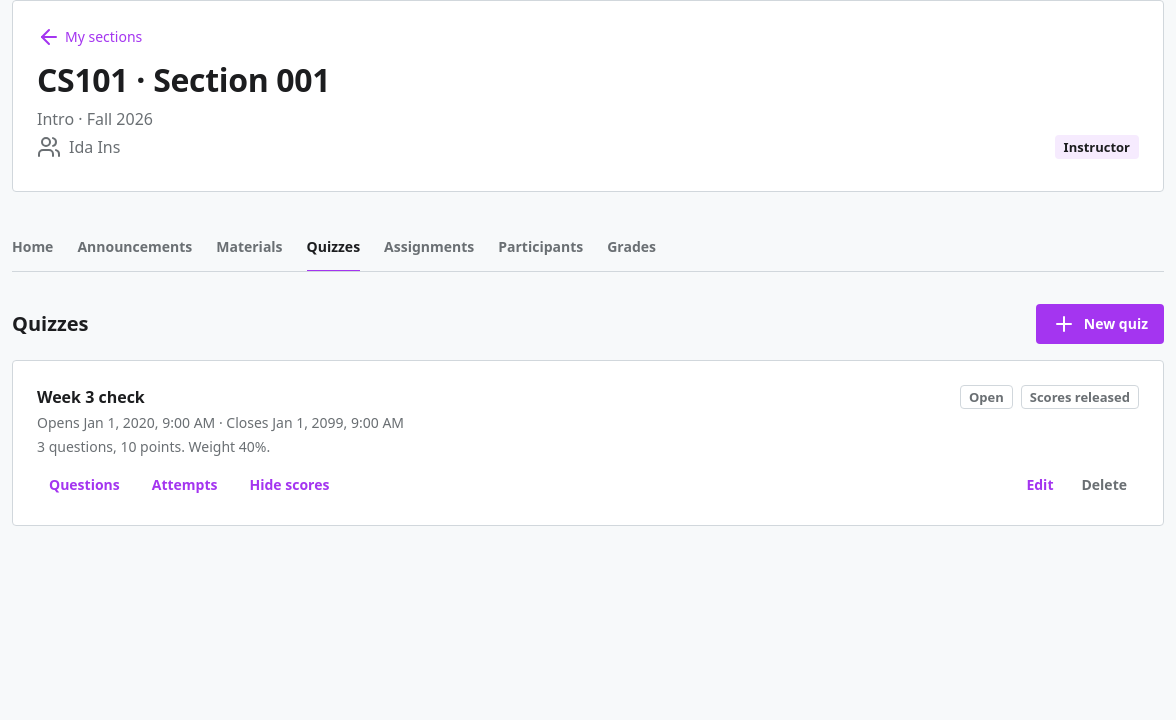
Scenario: Hide scores PATCHes immediately
Step 1. Click the button with aria-label "Hide scores for Week 3 check" → (289, 485), box top-left (238, 469), bottom-right (341, 501)
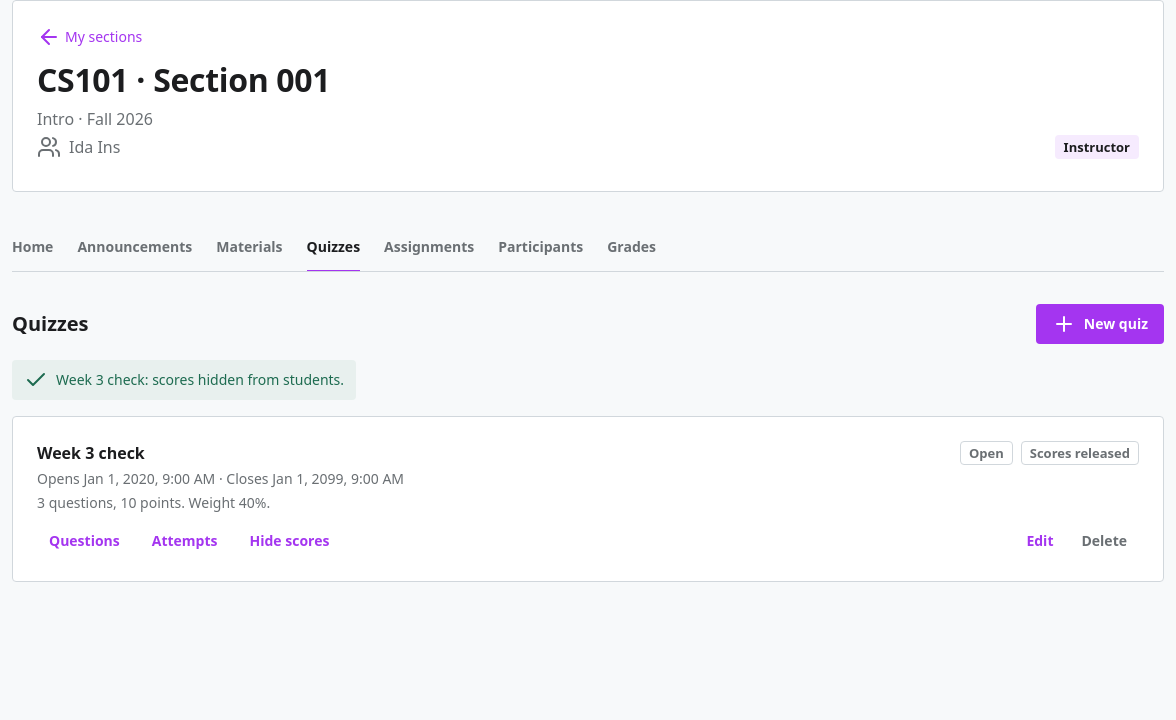
Result: the text "Week 3 check: scores hidden from students." is shown at top-left (12, 360), bottom-right (356, 400)
